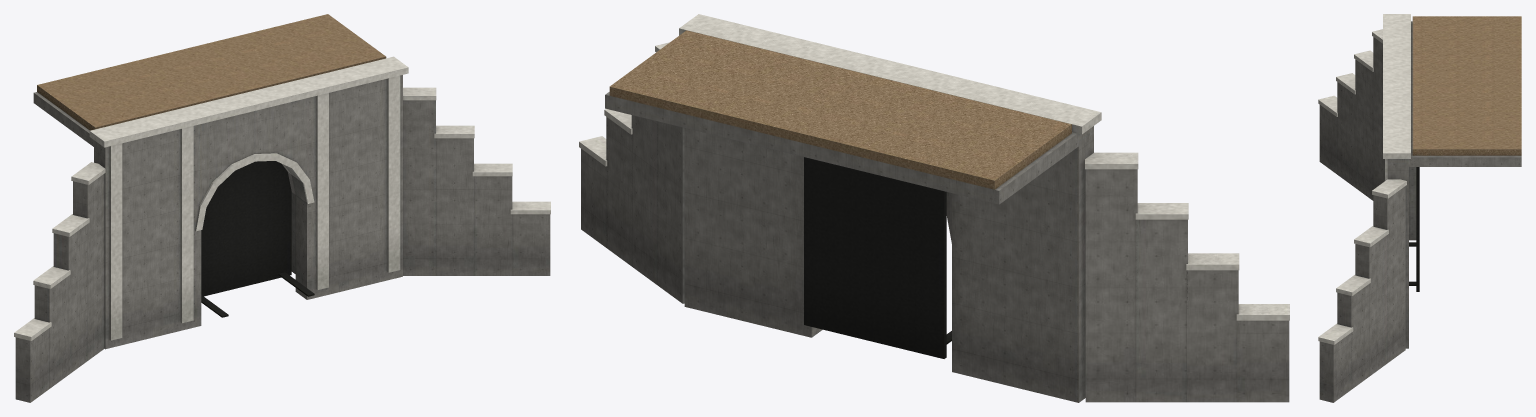
The model's file is tunnel_portal.glb.
3 renders of one model, left to right at view 1: azimuth 30°, elevation 25°; view 2: azimuth 150°, elevation 25°; view 3: azimuth 270°, elevation 25°, orthographic. The views are drawn at different scales.
Parts seen in each view (by area): view 1: tunnel_portal; view 2: tunnel_portal; view 3: tunnel_portal.
Part boxes in pixels (x1,y1,x2,y2): tunnel_portal: [14, 14, 550, 402]; tunnel_portal: [579, 14, 1289, 402]; tunnel_portal: [1318, 14, 1521, 402].
Bounding box in the file's own units: 32.47 × 12.2 × 11.38.
1 material, 1 textured.
